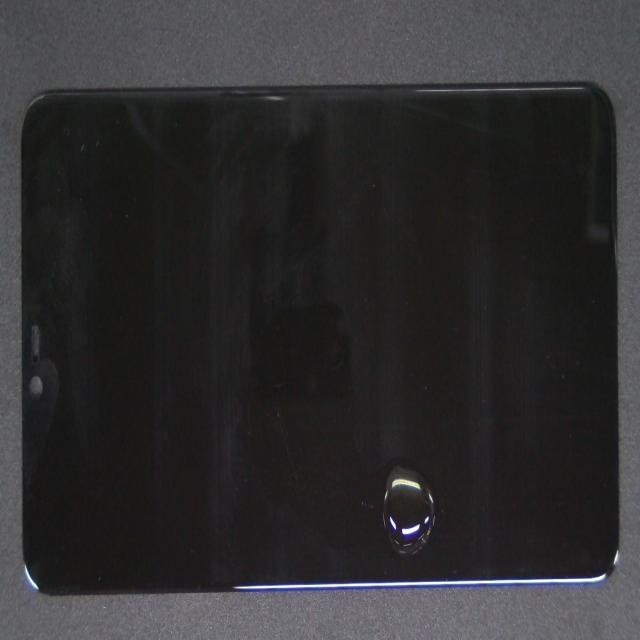oil: (236, 280, 640, 640)
